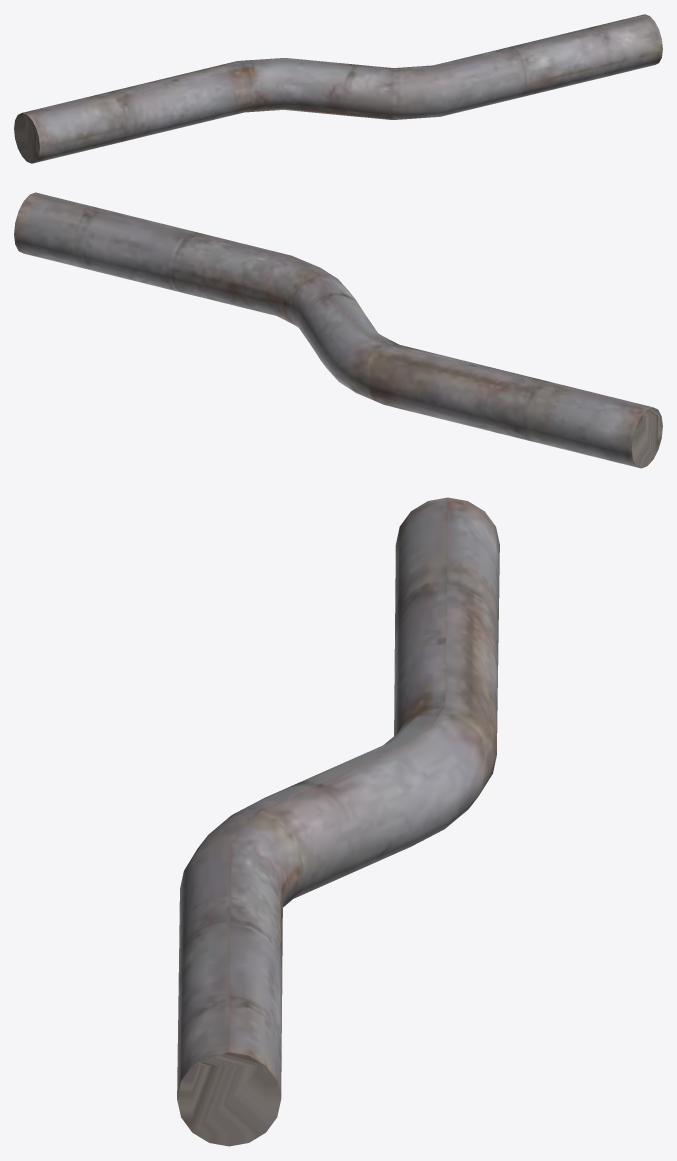
The model's file is pipe_e_300_b.glb.
The picture shows the model from 3 angles, top to bottom: view 1: azimuth 30°, elevation 25°; view 2: azimuth 150°, elevation 25°; view 3: azimuth 270°, elevation 25°; orthographic projection. The views are drawn at different scales.
Parts seen in each view (by area): view 1: pipe_e_300_b; view 2: pipe_e_300_b; view 3: pipe_e_300_b.
Part boxes in pixels (left/top/right/bottom): pipe_e_300_b: left=14, top=14, right=662, bottom=163; pipe_e_300_b: left=14, top=192, right=662, bottom=468; pipe_e_300_b: left=177, top=497, right=499, bottom=1146.
Bounding box in the file's own units: 3 × 0.2381 × 0.7381.
Materials: 1 (1 with a texture image).
